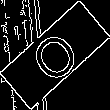O_SE: (24, 21, 86, 89)
